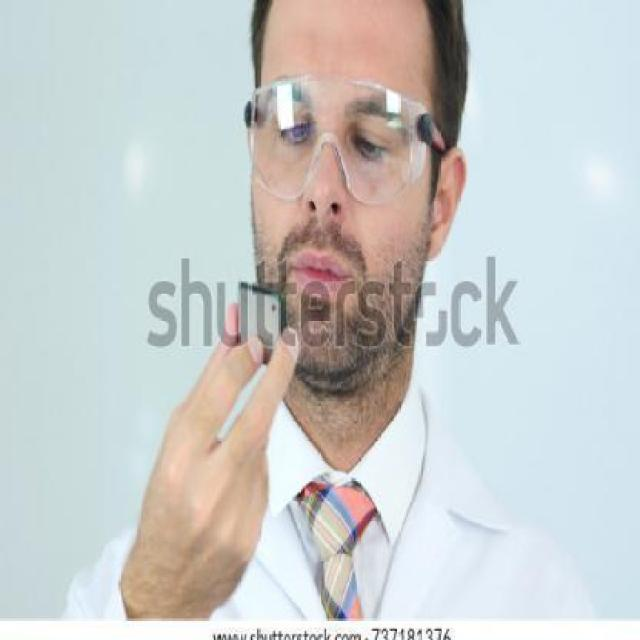face_nomask: (255, 98, 408, 330)
glasses: (242, 73, 448, 210)
hand_noglove: (131, 298, 300, 596)
person: (71, 0, 612, 620)
